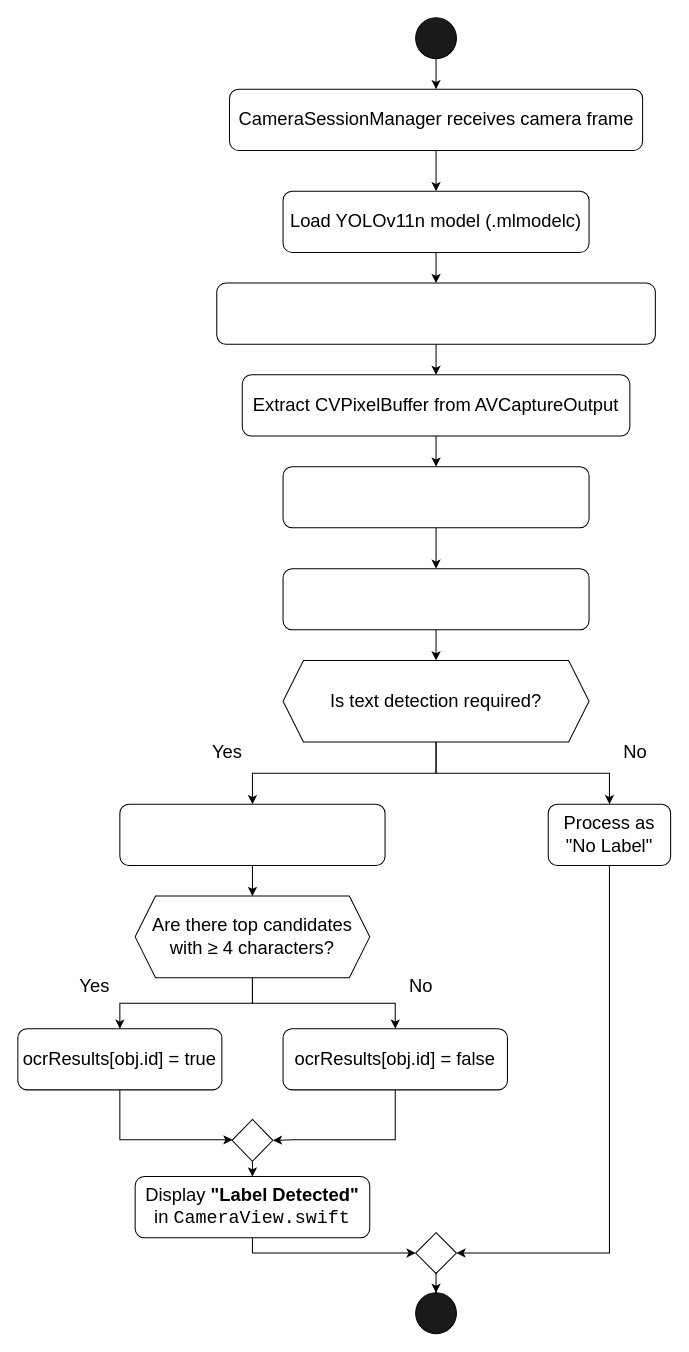
The diagram is 689 pixels wide and 1352 high, and some of its shapes have lost their labels. The centre of each missing label's shape, as x and y in pixels:
"Create VNCoreMLRequest using VNCoreMLModel" goes at (x=435, y=313).
"Execute VNImageRequestHandler run YOLO inference" goes at (x=435, y=497).
"Perform OCR (VNRecognizeTextRequest)" goes at (x=252, y=834).
"Store detected objects (label, bbox, confidence)" goes at (x=435, y=599).
